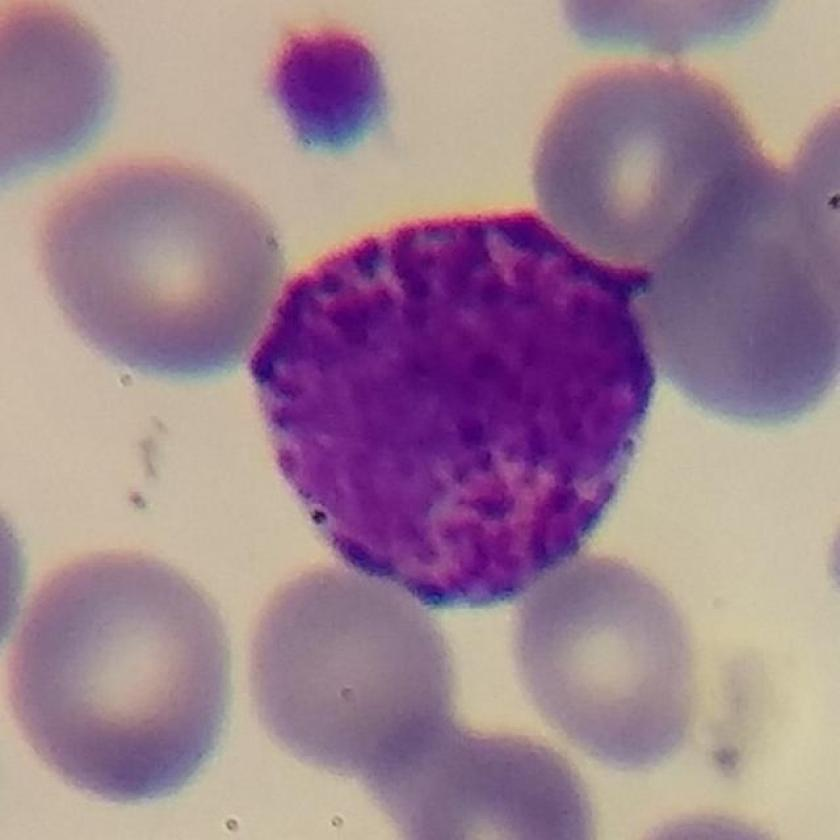basophil: (244, 198, 664, 620)
